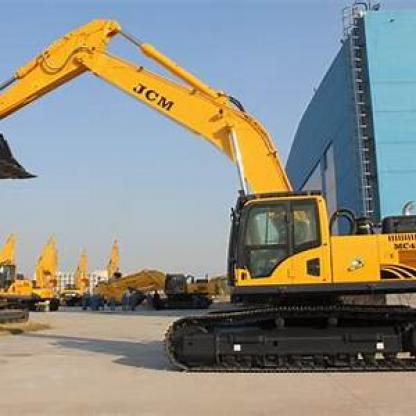excavator: (1, 15, 414, 379)
